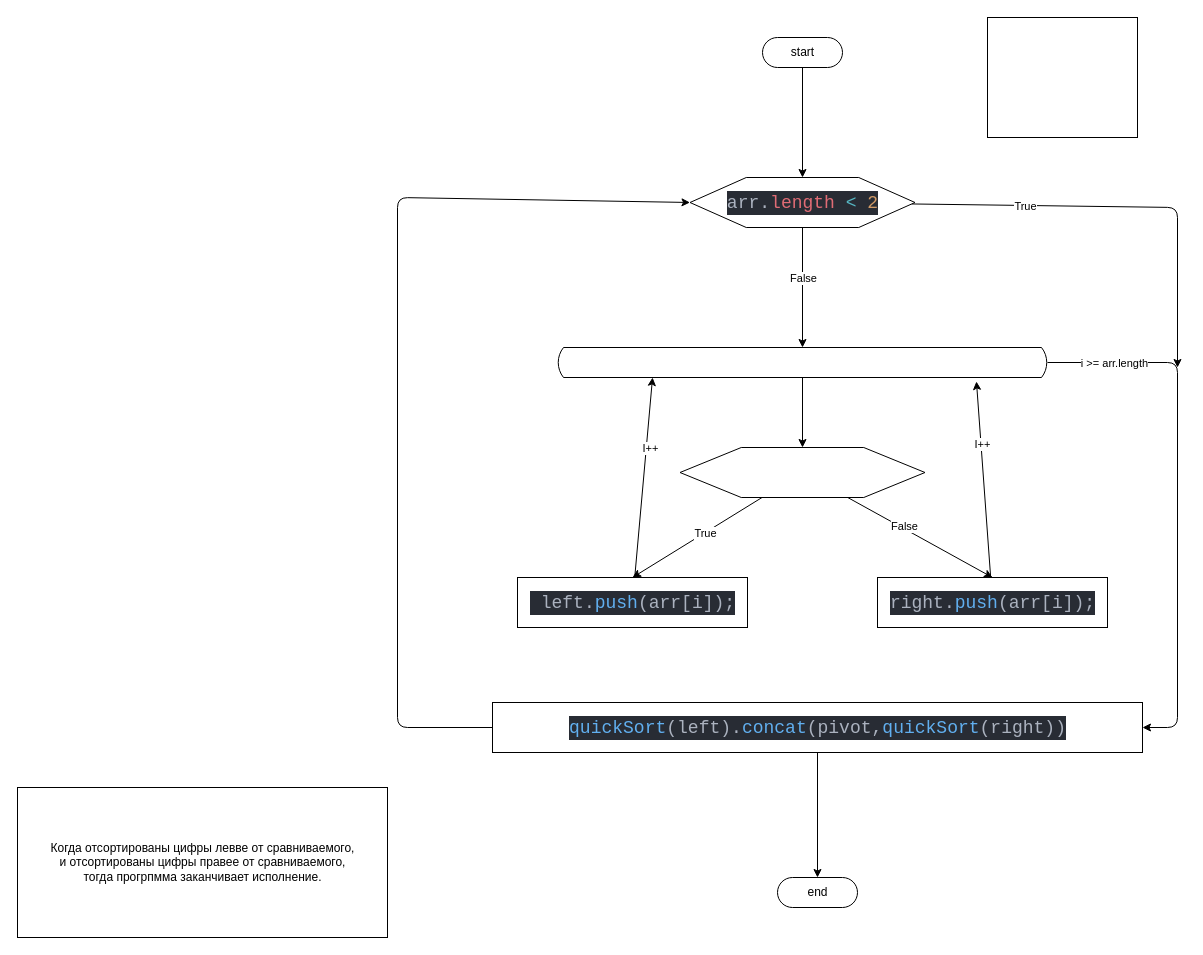
Image size: 1203x955. Some labels were removed from this diagram. Each missing label, with the centre of its shape:
arr : number[] left : number[] right : number[] pivot : number = arr[rand]: point (1062, 77)
for ( let i = 1 ; i < arr. length ; i ++ ): point (802, 362)
pivot > arr[i]: point (802, 472)
